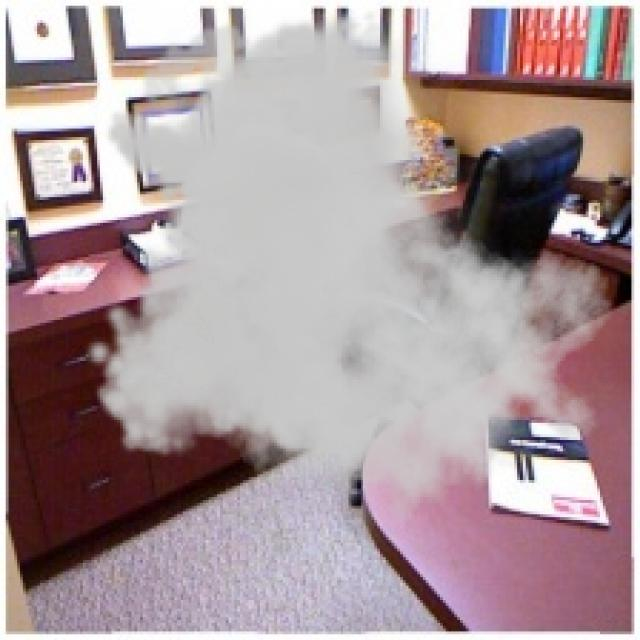smoke: (83, 9, 614, 548)
